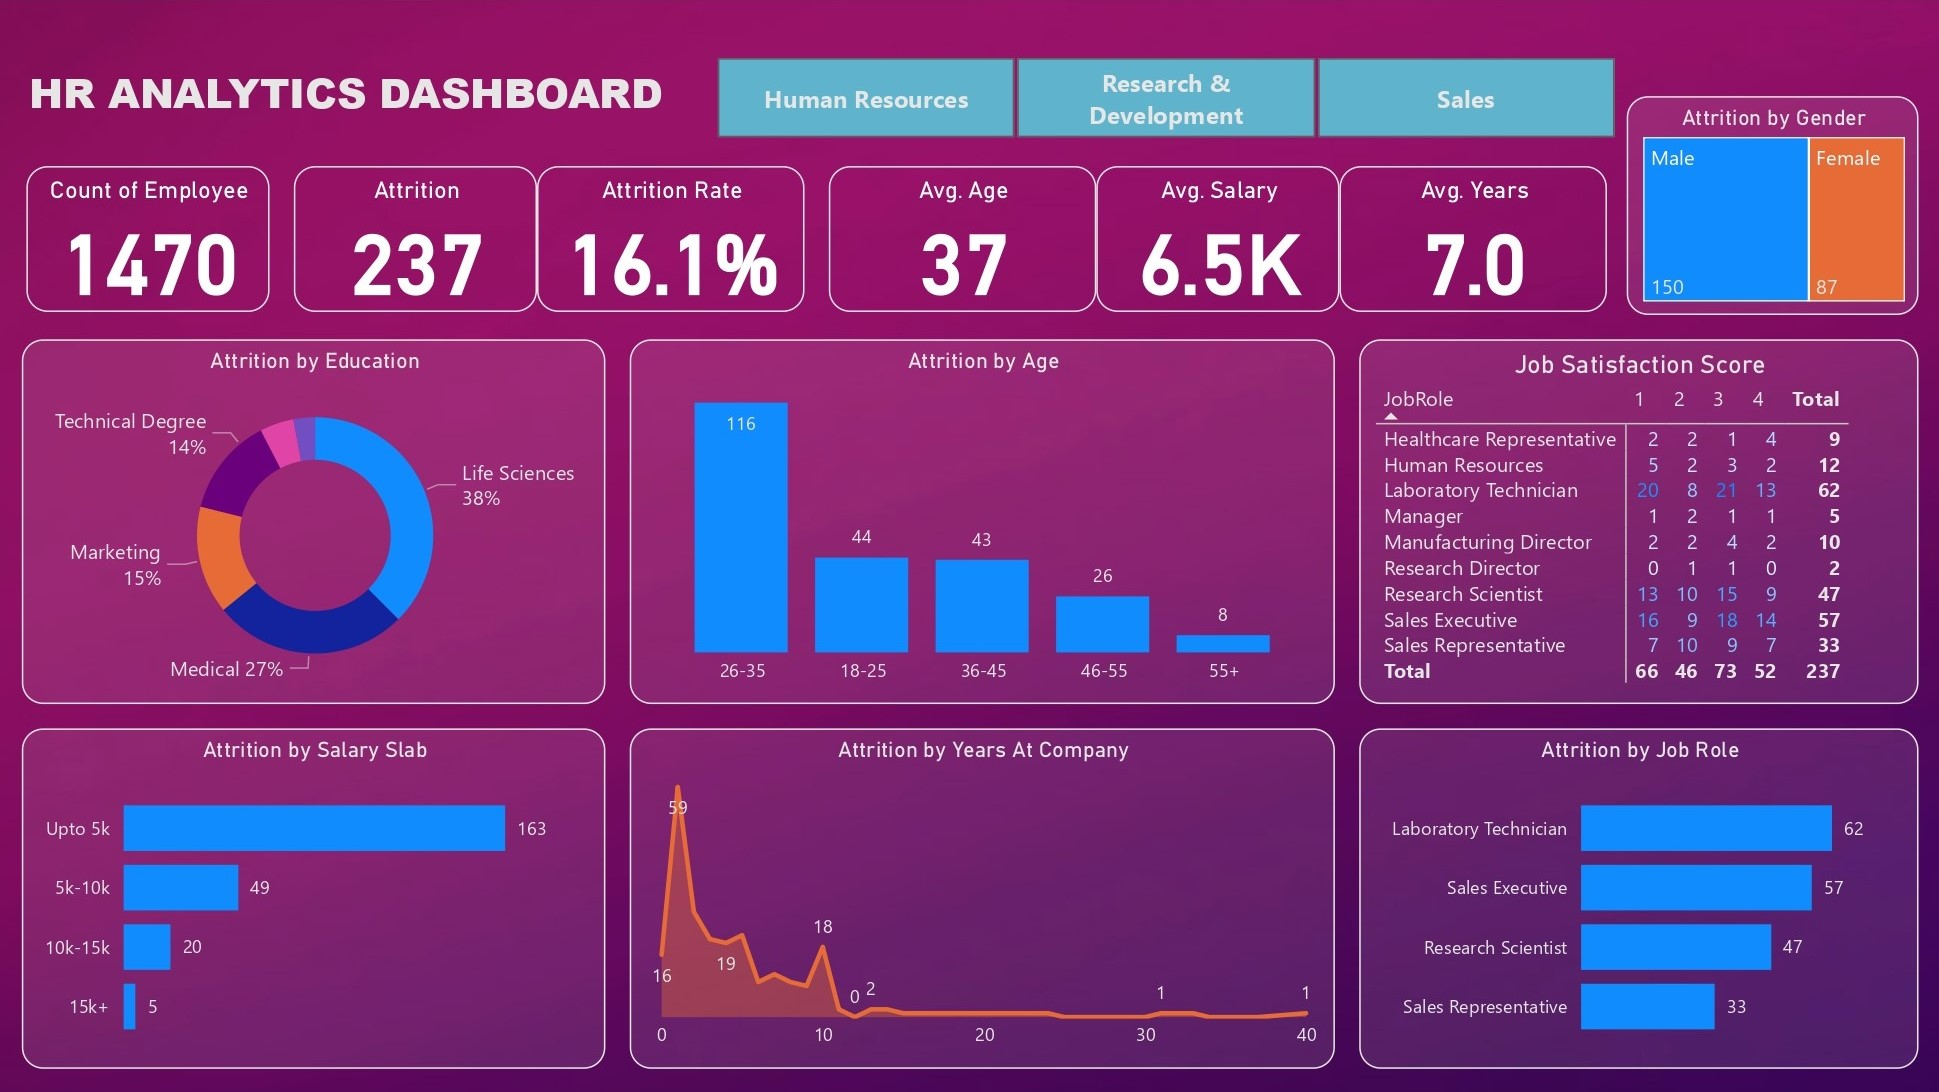

The page's visual inventory and layout, read from the dashboard file:
{"tool":"powerbi","page":{"name":"Page 1","canvas":[1280,720],"ordinal":0},"visuals":[{"type":"card","title":"Count of Employee","fields":{"Values":["Count(HR_Analytics.EmpID)"]},"box":[19.4,109.6,160,96],"z":0},{"type":"card","title":"Attrition","fields":{"Values":["Sum(HR_Analytics.AttritionCount)"]},"box":[195.4,109.6,160,96],"z":1000},{"type":"card","title":"Attrition Rate","fields":{"Values":["HR_Analytics.Attrition_Ratio"]},"box":[355.4,109.6,176,96],"z":2000},{"type":"card","title":"Avg. Age","fields":{"Values":["Avg(HR_Analytics.Age)"]},"box":[547.4,109.6,176,96],"z":3000},{"type":"card","title":"Avg. Years","fields":{"Values":["Avg(HR_Analytics.YearsAtCompany)"]},"box":[883.4,109.6,176,96],"z":4000},{"type":"card","title":"Avg. Salary","fields":{"Values":["Avg(HR_Analytics.MonthlyIncome)"]},"box":[723.4,109.6,160,96],"z":5000},{"type":"donutChart","title":"Attrition by Education","fields":{"Y":["Sum(HR_Analytics.AttritionCount)"],"Category":["HR_Analytics.EducationField"]},"box":[16,224,384,240],"z":6000},{"type":"columnChart","title":"Attrition by Age","fields":{"Category":["HR_Analytics.AgeGroup"],"Y":["Sum(HR_Analytics.AttritionCount)"]},"box":[416,224,464,240],"z":7000},{"type":"pivotTable","title":"Job Satisfaction Score","fields":{"Rows":["HR_Analytics.JobRole"],"Columns":["HR_Analytics.JobSatisfaction"],"Values":["Sum(HR_Analytics.AttritionCount)"]},"box":[896,224,368,240],"z":8000},{"type":"barChart","title":"Attrition by Salary Slab","fields":{"Category":["HR_Analytics.SalarySlab"],"Y":["Sum(HR_Analytics.AttritionCount)"]},"box":[16,480,384,224],"z":9000},{"type":"barChart","title":"Attrition by Job Role","fields":{"Category":["HR_Analytics.JobRole"],"Y":["Sum(HR_Analytics.AttritionCount)"]},"box":[896,480,368,224],"z":10000},{"type":"areaChart","title":"Attrition by Years At Company","fields":{"Category":["HR_Analytics.YearsAtCompany"],"Y":["Sum(HR_Analytics.AttritionCount)"]},"box":[416,480,464,224],"z":11000},{"type":"treemap","title":"Attrition by Gender","fields":{"Group":["HR_Analytics.Gender"],"Values":["Sum(HR_Analytics.AttritionCount)"]},"box":[1072,64,192,144],"z":12000},{"type":"textbox","box":[16,32,496,64],"z":14000},{"type":"slicer","fields":{"Values":["HR_Analytics.Department"]},"box":[448,32,640,64],"z":15000}]}

Visuals, with their boxes in screenshot pixels (x1, y1, x2, y2), scaled from the page's 1280x720 canvas onto the 1939x1092 screenshot:
"Count of Employee" card: 29,166,272,312
"Attrition" card: 296,166,538,312
"Attrition Rate" card: 538,166,805,312
"Avg. Age" card: 829,166,1096,312
"Avg. Years" card: 1338,166,1605,312
"Avg. Salary" card: 1096,166,1338,312
"Attrition by Education" donutChart: 24,340,606,704
"Attrition by Age" columnChart: 630,340,1333,704
"Job Satisfaction Score" pivotTable: 1357,340,1915,704
"Attrition by Salary Slab" barChart: 24,728,606,1068
"Attrition by Job Role" barChart: 1357,728,1915,1068
"Attrition by Years At Company" areaChart: 630,728,1333,1068
"Attrition by Gender" treemap: 1624,97,1915,315
textbox: 24,49,776,146
slicer - HR_Analytics.Department: 679,49,1648,146
